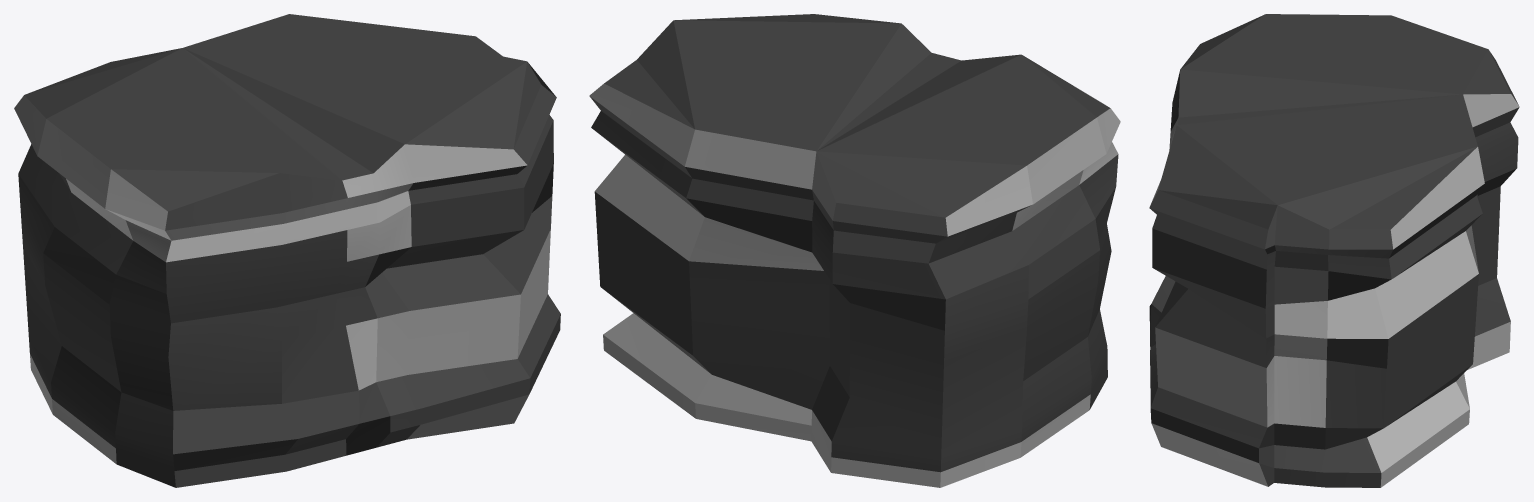
Rendered from SpaceRock1.glb.
3 renders of one model, left to right at view 1: azimuth 30°, elevation 25°; view 2: azimuth 150°, elevation 25°; view 3: azimuth 270°, elevation 25°, orthographic. The views are drawn at different scales.
Parts seen in each view (by area): view 1: cliff_8; view 2: cliff_8; view 3: cliff_8.
Boxes of the visible parts, x1,y1,x2,y2 form: cliff_8: (14,14,560,487); cliff_8: (589,14,1120,487); cliff_8: (1149,14,1519,487).
Bounding box in the file's own units: 49.4 × 30.95 × 37.66.
1 material, 1 textured.
